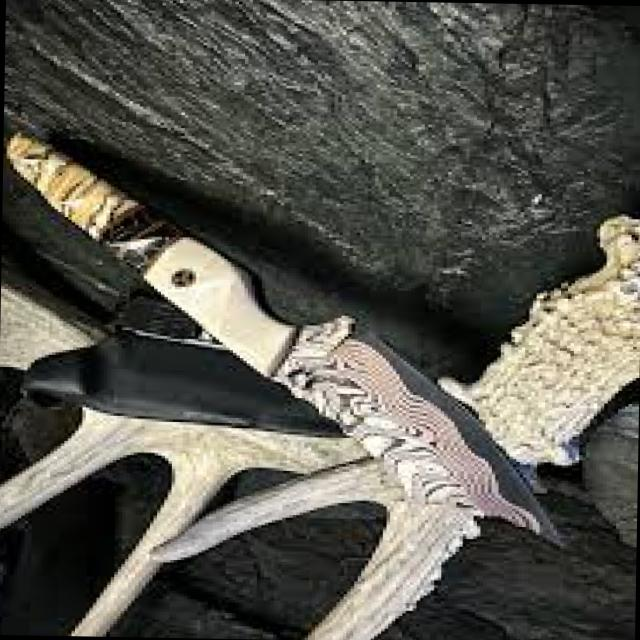Gun: (0, 117, 574, 552)
